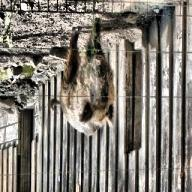boar: (49, 18, 116, 138)
